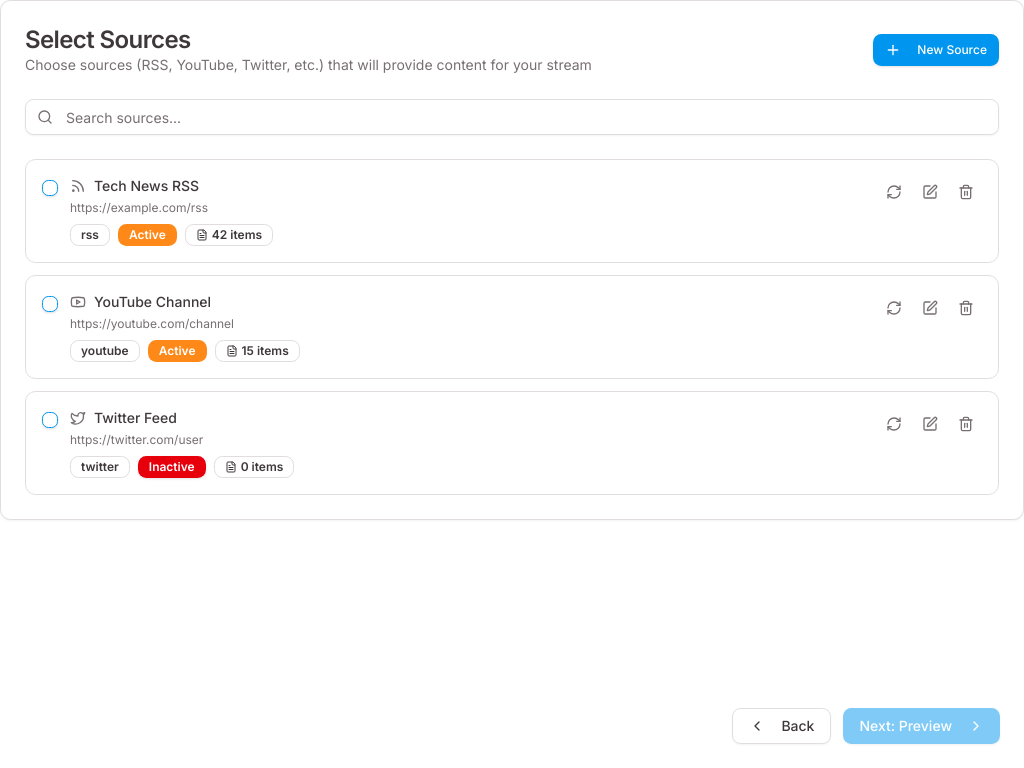
Test: SourceSelectionStep › Search Functionality › shows no results message when search yields nothing
Expected: the heading "Tech News RSS" is shown, [94,176,199,196]
Type "nonexistent" into the field with placeholder "Search sources..." at (512, 117), box [25,99,999,135]
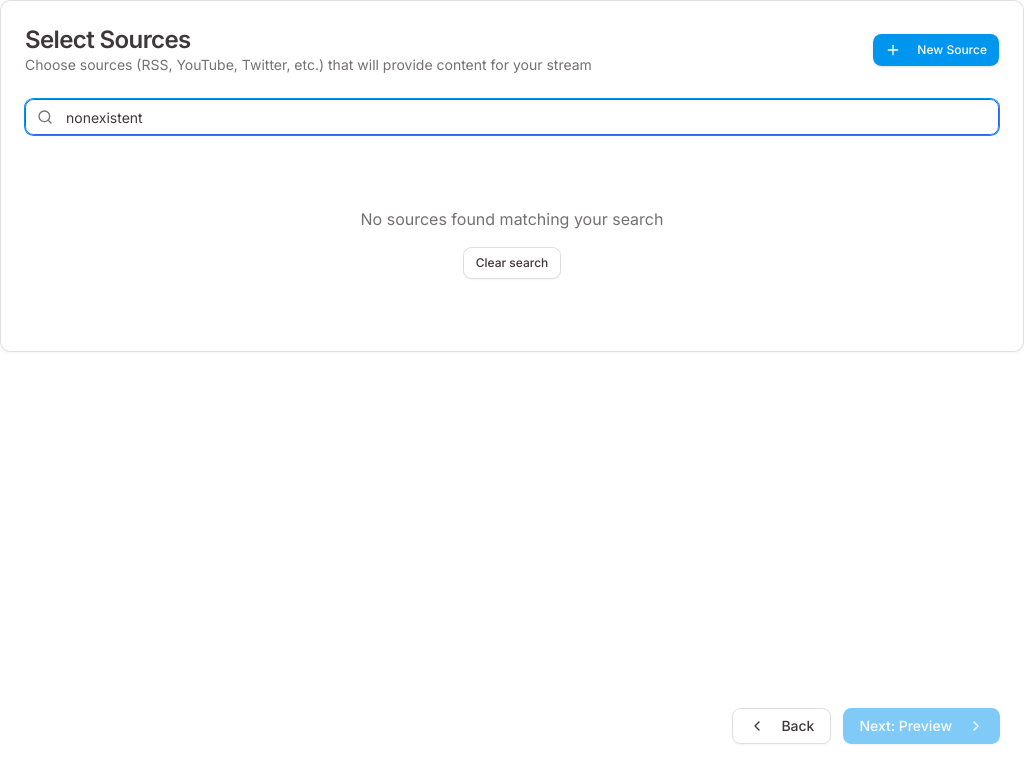
Result: the text "No sources found matching your search" is shown at [360,209,663,229]
